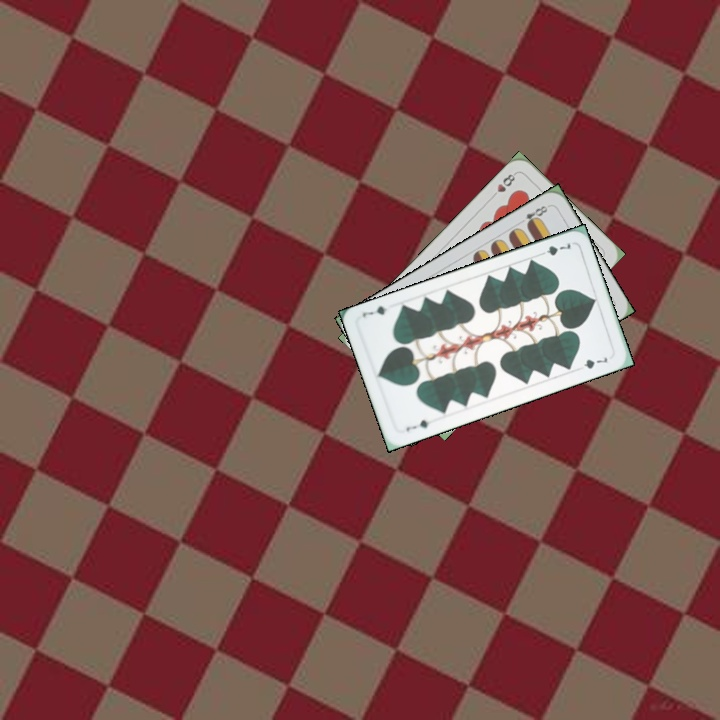E8: (515, 201, 552, 229)
G7: (535, 238, 575, 258), (402, 415, 437, 434)
H8: (487, 169, 519, 201)
